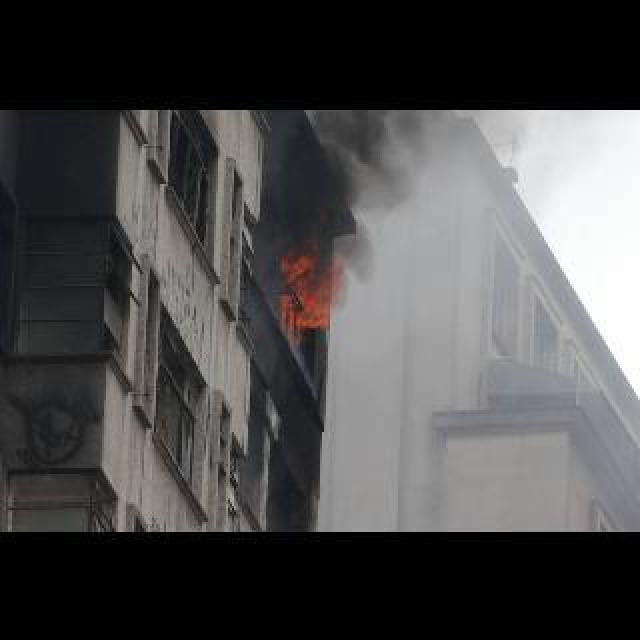Fire: (278, 236, 338, 342)
Smoke: (276, 109, 424, 251)
